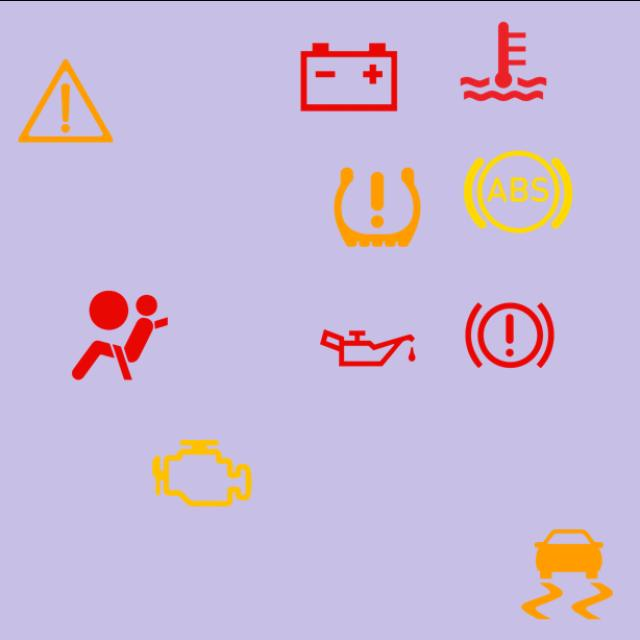Anti Lock Braking System: (458, 131, 578, 250)
Braking System Issue: (450, 275, 569, 394)
Charging System Issue: (290, 16, 408, 136)
Check Engine: (142, 412, 262, 532)
Electronic Stability Problem -ESP-: (508, 514, 626, 633)
Engine Overheating Warning Light: (444, 1, 563, 120)
Low Engine Oil Warning Light: (308, 288, 428, 407)
Low Tire Pressure Warning Light: (318, 147, 437, 266)
Master warning light: (6, 40, 125, 160)
SRS-Airbag: (60, 275, 180, 394)
